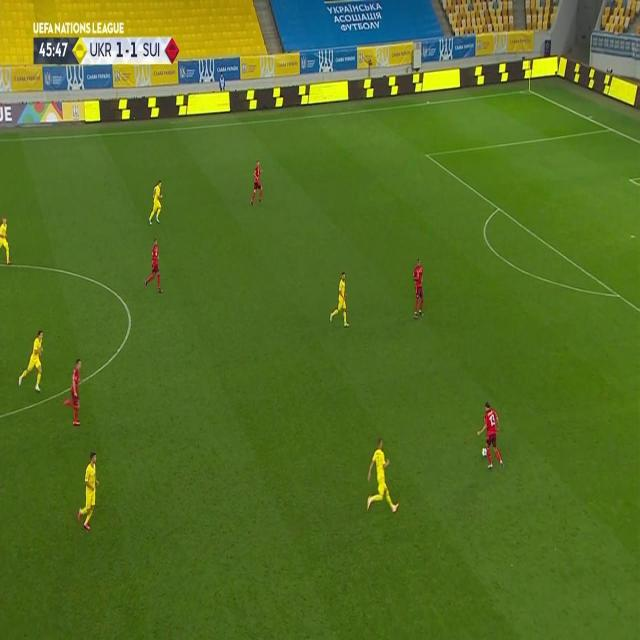ball: (481, 445, 487, 459)
player: (363, 437, 399, 519), (474, 401, 504, 470), (16, 330, 46, 392), (78, 452, 100, 530), (63, 356, 84, 426), (328, 270, 350, 329), (143, 238, 163, 294), (411, 256, 425, 318), (248, 158, 264, 206), (147, 179, 163, 225), (0, 214, 13, 264)
